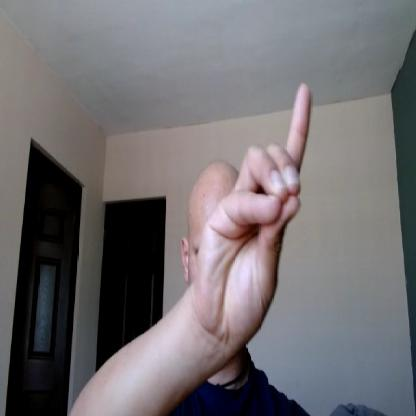D: (197, 82, 313, 336)
